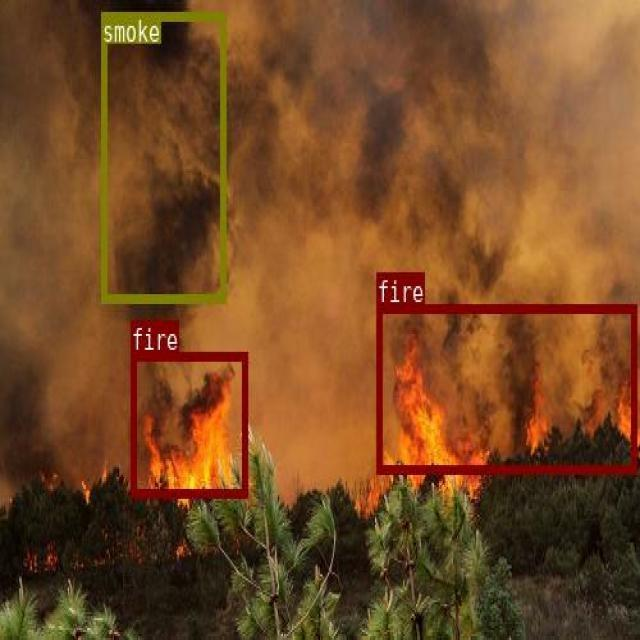fire: (375, 303, 635, 472), (130, 352, 247, 497)
smoke: (101, 10, 225, 302)
